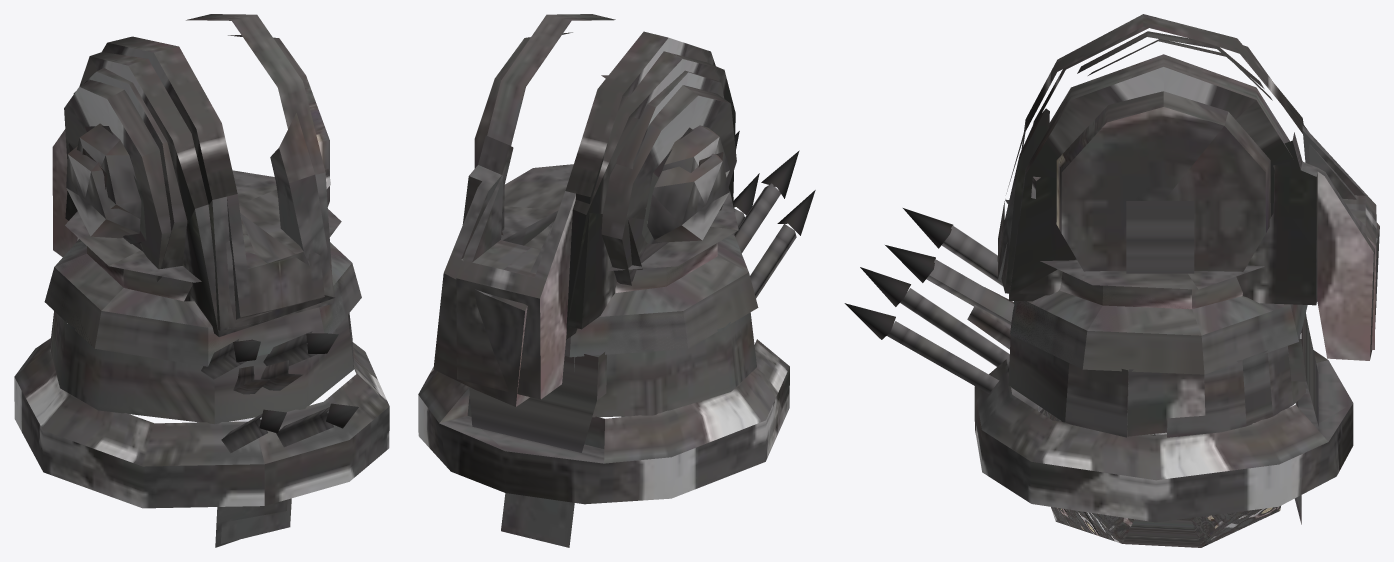
The model's file is aaturret.far.glb.
The picture shows the model from 3 angles, left to right: view 1: azimuth 30°, elevation 25°; view 2: azimuth 150°, elevation 25°; view 3: azimuth 270°, elevation 25°; orthographic projection.
Size of the model in its own units: 3.37 by 4.86 by 4.82.
1 material, 1 textured.
